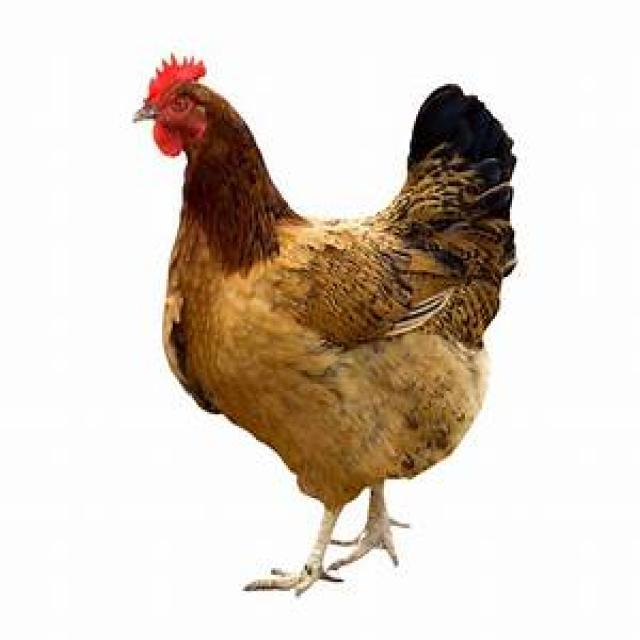hen: (138, 59, 515, 594)
